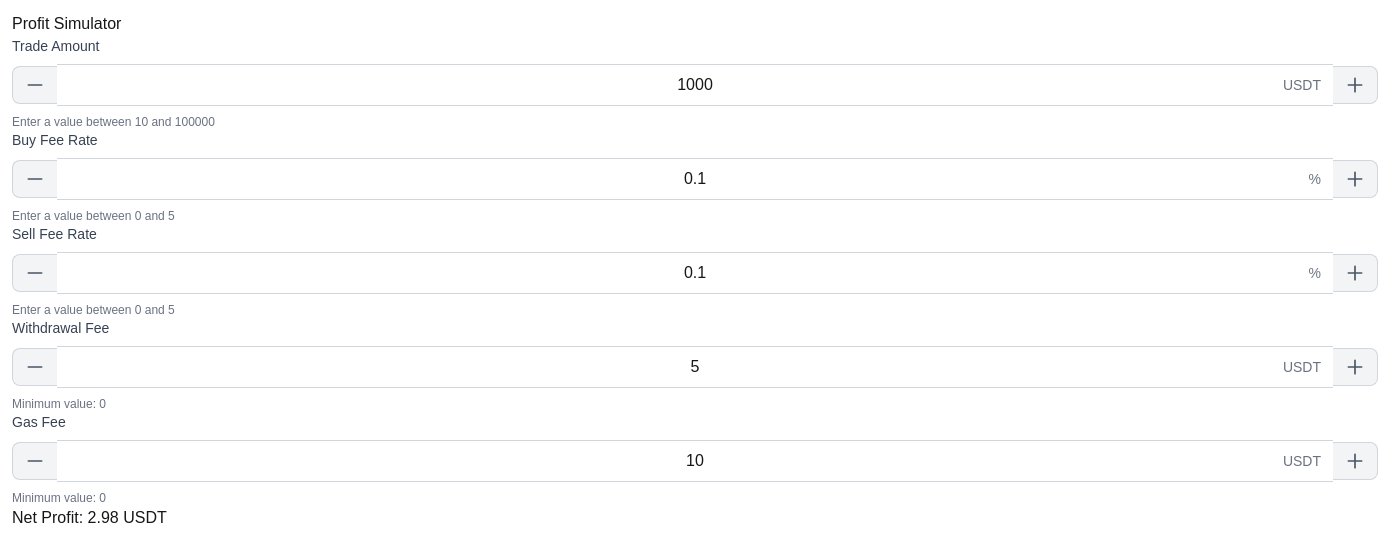
AmountInput Integration Tests › Accessibility Integration › should announce validation errors to screen readers
Trigger validation error
Clear the field labelled "Trade Amount" at (695, 85), box [57,64,1333,106]
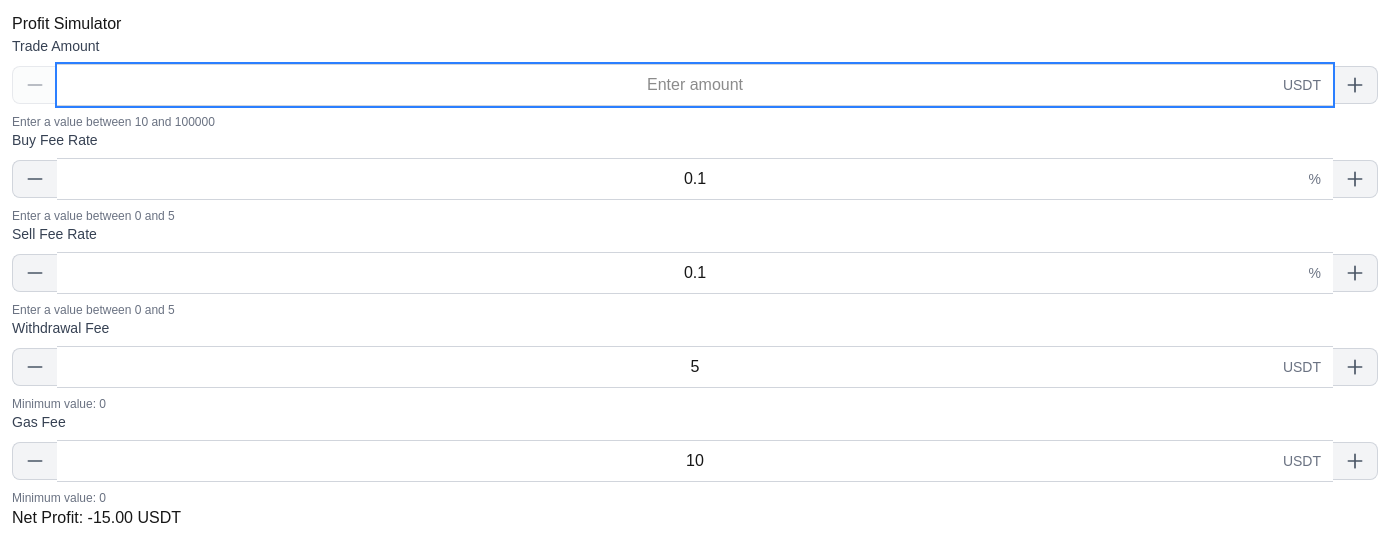
Press Tab
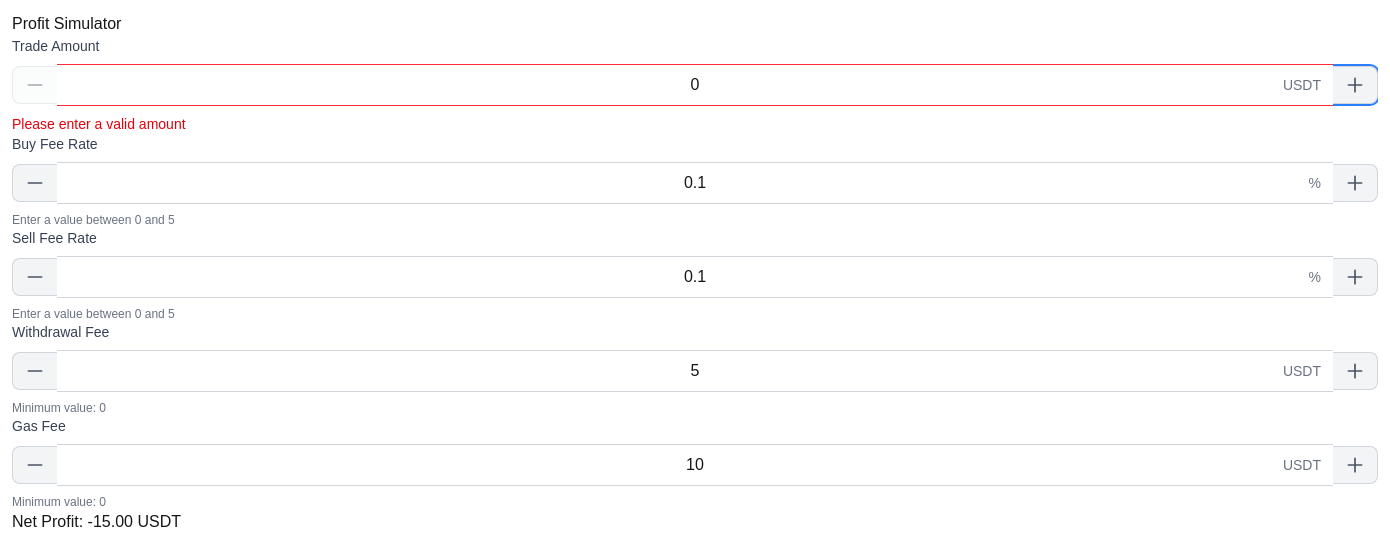
Expected: the message "Please enter a valid amount" is shown, [12,116,186,132]
